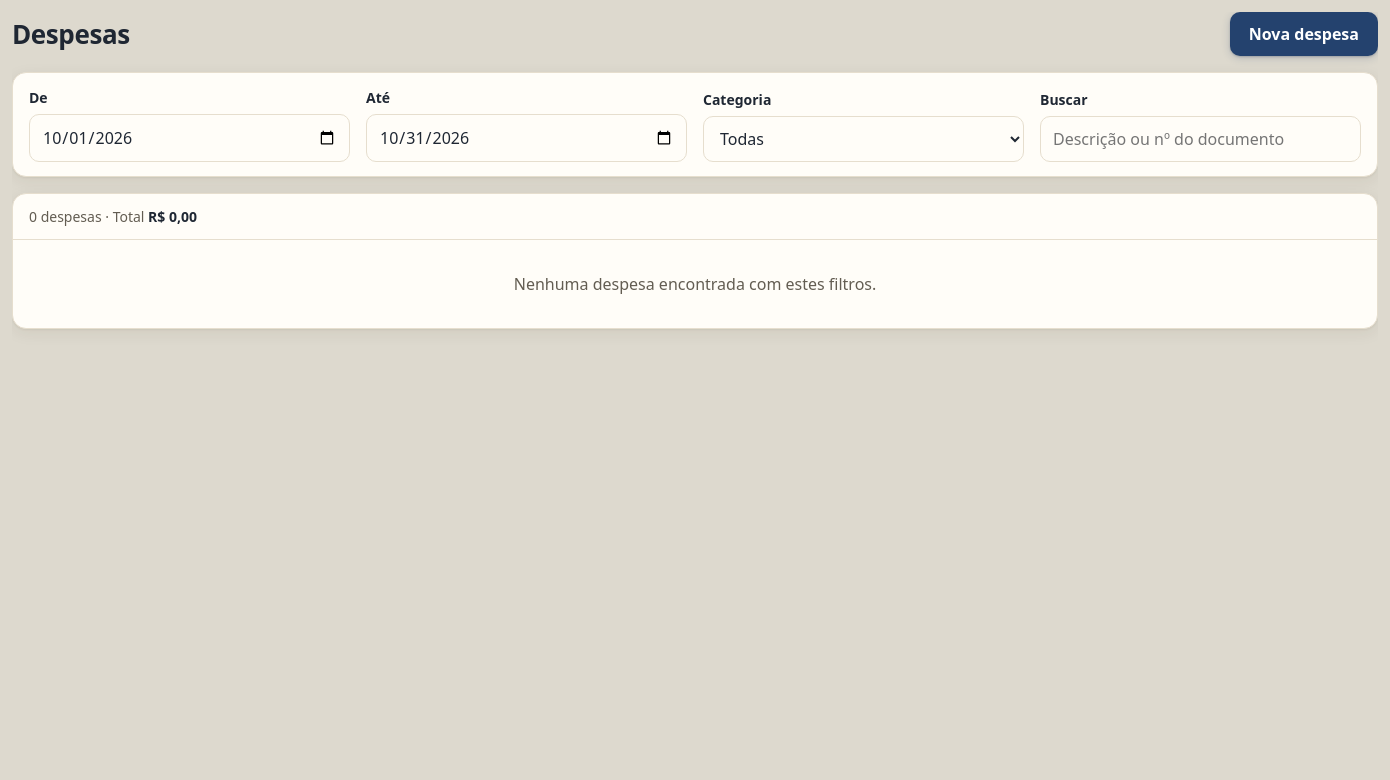
Test: Despesas › sugere a categoria pela descrição e explica a origem
Click the button "Nova despesa".
click(1304, 34)  # box [1230,12,1378,56]
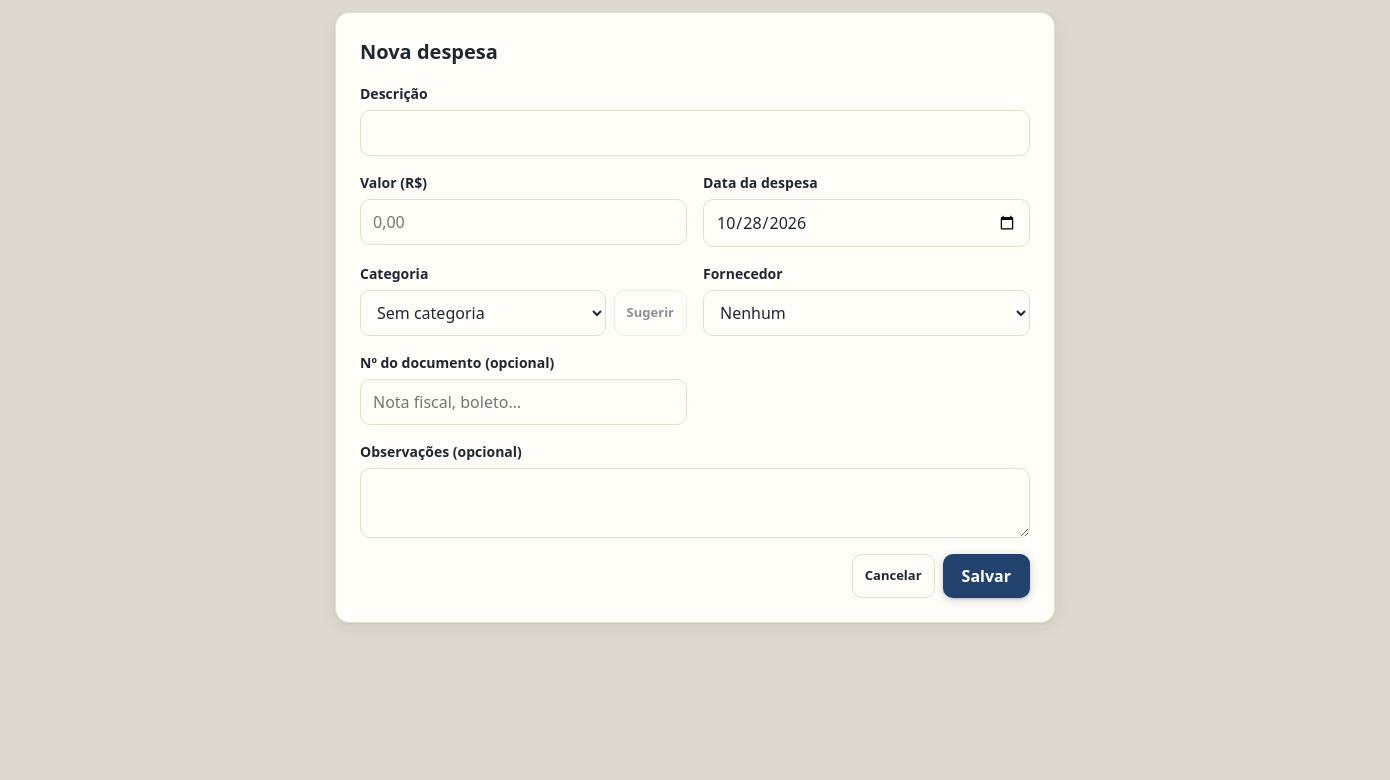
Check: the button "Sugerir" is disabled, box [614,290,687,336]
Type "Cerveja lata" into the field labelled "Descrição".
click(695, 133); type("Cerveja lata")  # box [360,110,1030,156]
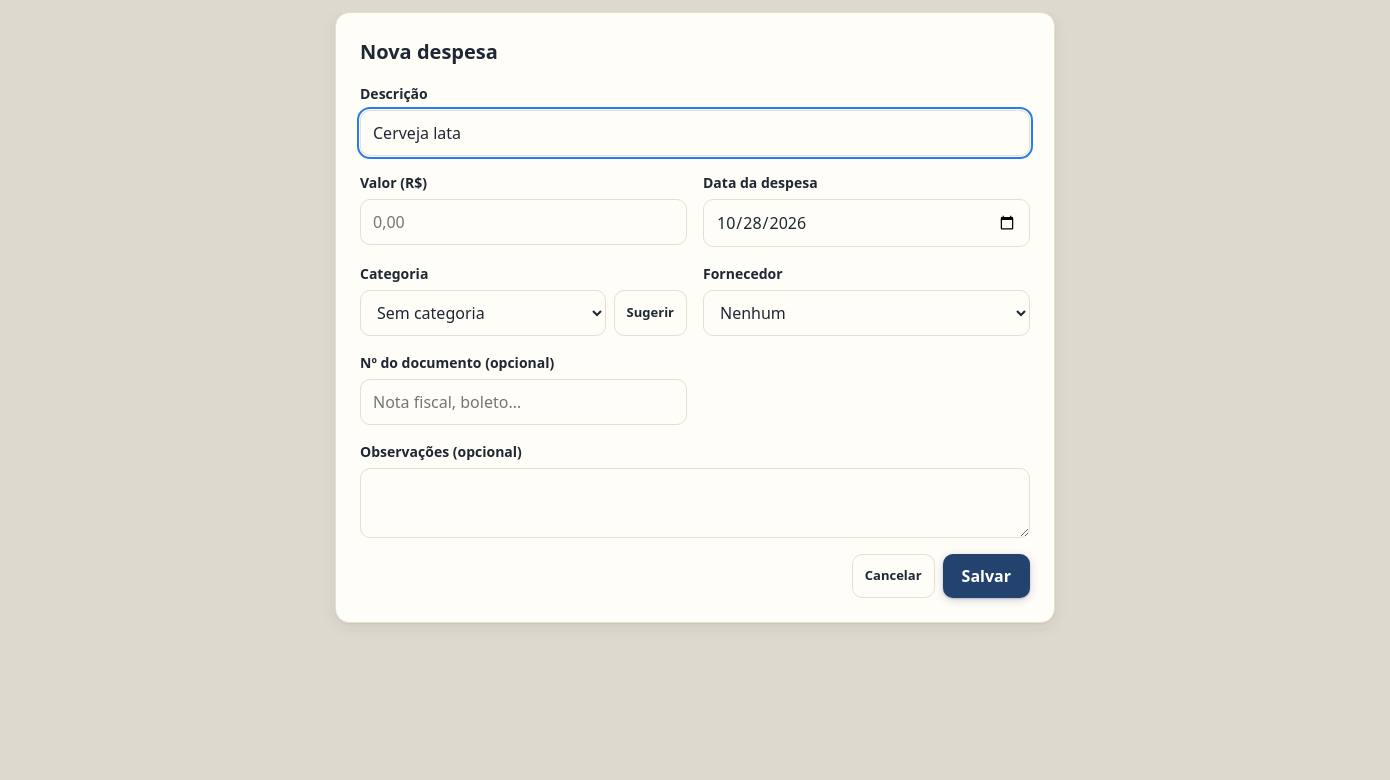
Select "Hortifruti Verde" in the dropdown labelled "Fornecedor" at (866, 313), box [703,290,1030,336]
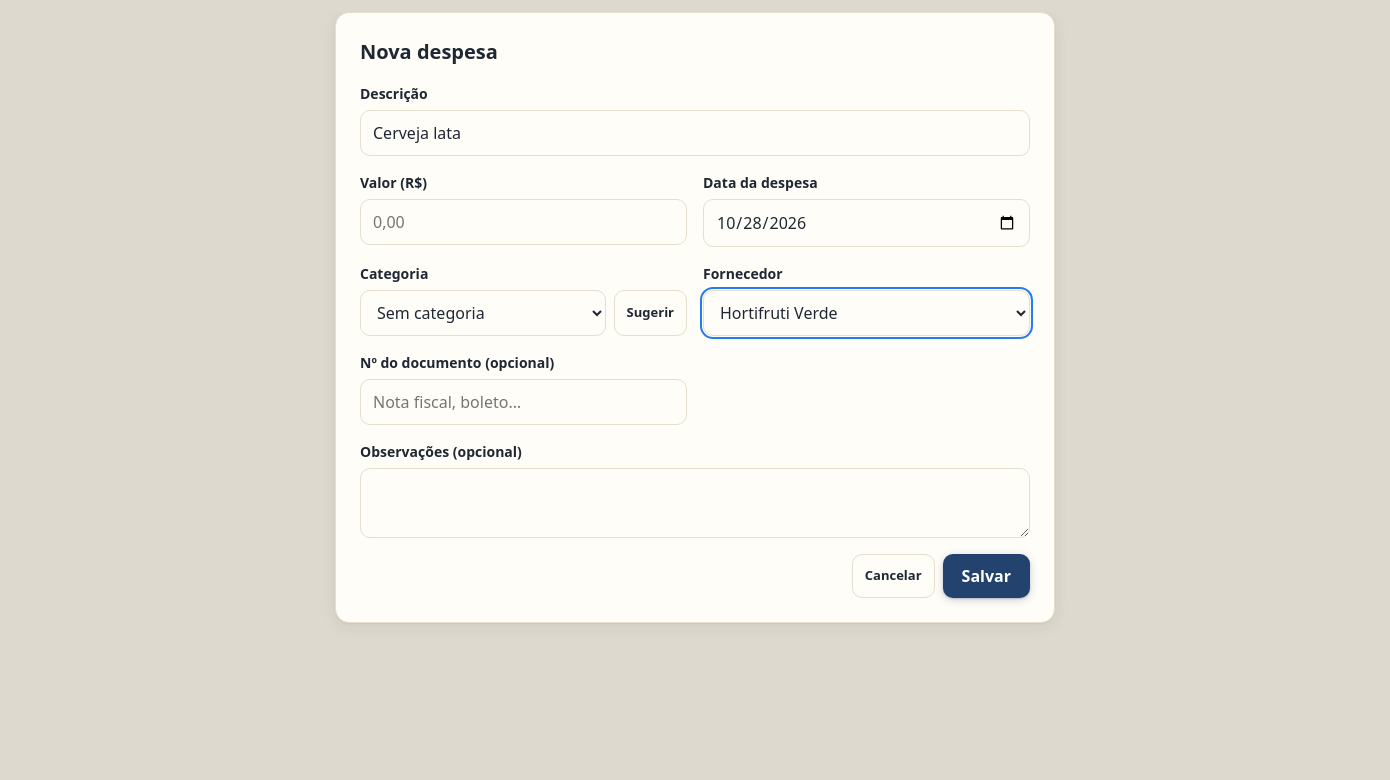
Click the button "Sugerir".
click(650, 313)  # box [614,290,687,336]
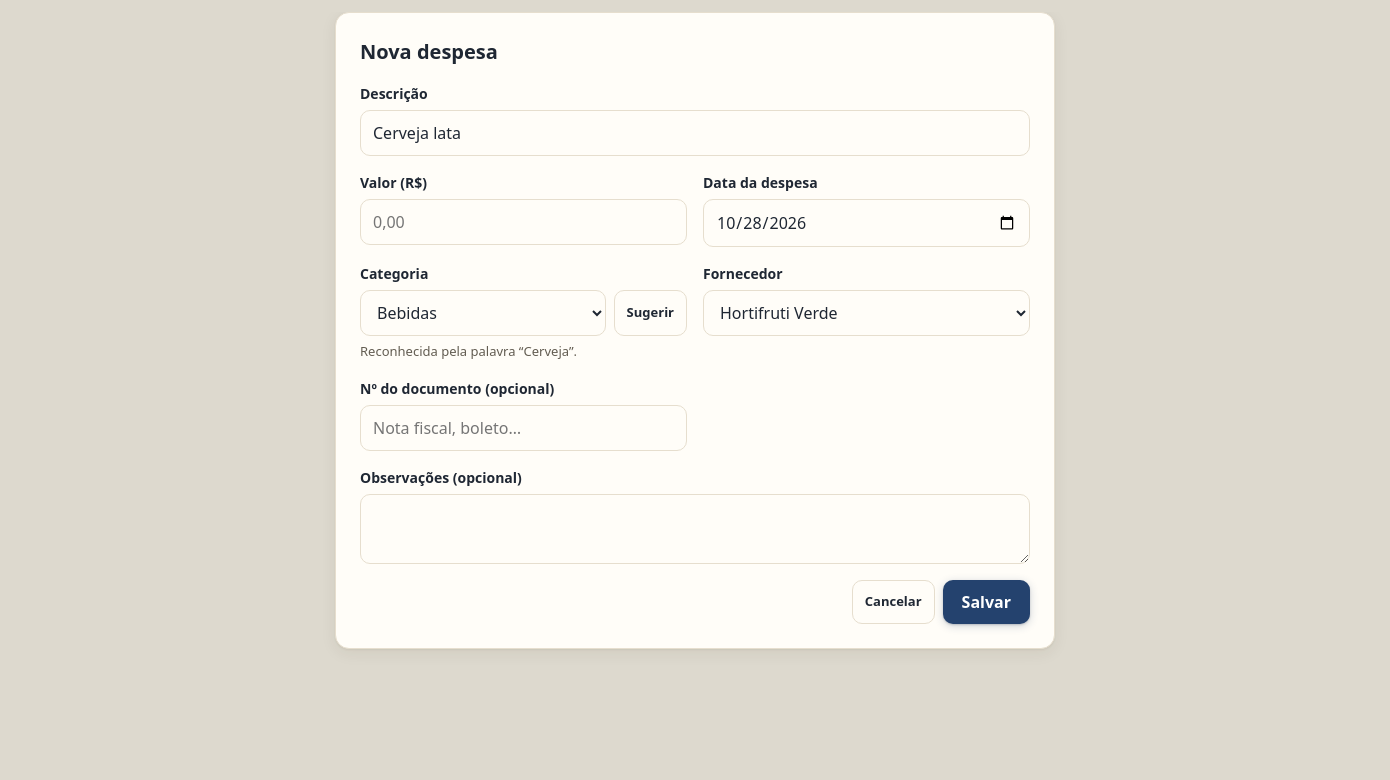
Check: the dropdown labelled "Categoria" shows "Bebidas", box [360,290,606,336]
Check: the message reads "Reconhecida pela palavra “Cerveja”.", box [360,342,577,360]
